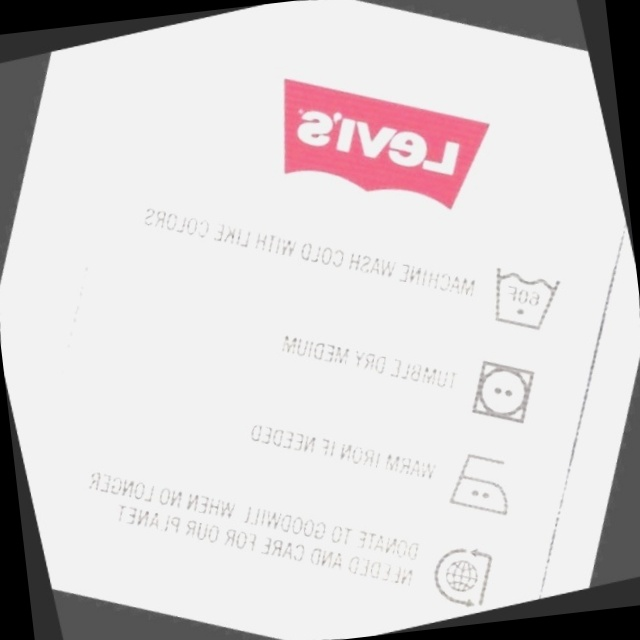30C: (474, 244, 575, 347)
iron_medium: (428, 433, 530, 535)
tumble_dry_medium: (450, 341, 551, 441)
